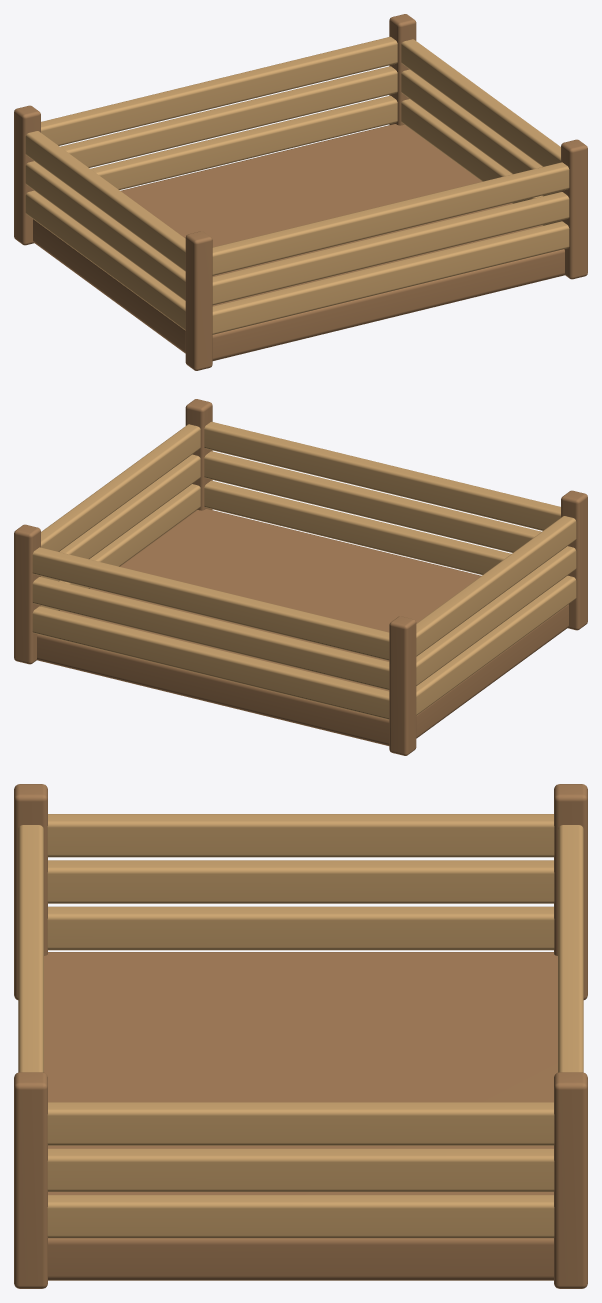
The model's file is SM_EG_ProduceCrate_21a86d195d.fbx.
3 views of the same model, one above another, from view 1: azimuth 30°, elevation 25°; view 2: azimuth 150°, elevation 25°; view 3: azimuth 270°, elevation 25° (orthographic). The views are drawn at different scales.
Parts seen in each view (by area): view 1: SM_EG_ProduceCrate_21a86d195d; view 2: SM_EG_ProduceCrate_21a86d195d; view 3: SM_EG_ProduceCrate_21a86d195d.
Boxes of the visible parts, x1,y1,x2,y2 form: SM_EG_ProduceCrate_21a86d195d: (14,14,587,370); SM_EG_ProduceCrate_21a86d195d: (14,399,587,755); SM_EG_ProduceCrate_21a86d195d: (14,784,587,1288).
Size of what is drawn, in the model's own units: 126 by 101 by 40.
